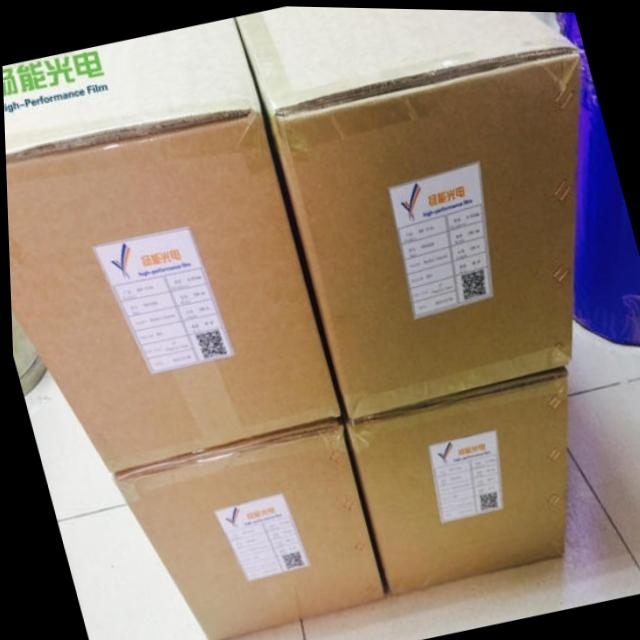box: (2, 18, 343, 474), (234, 5, 578, 425), (108, 411, 384, 640), (344, 365, 564, 593)
